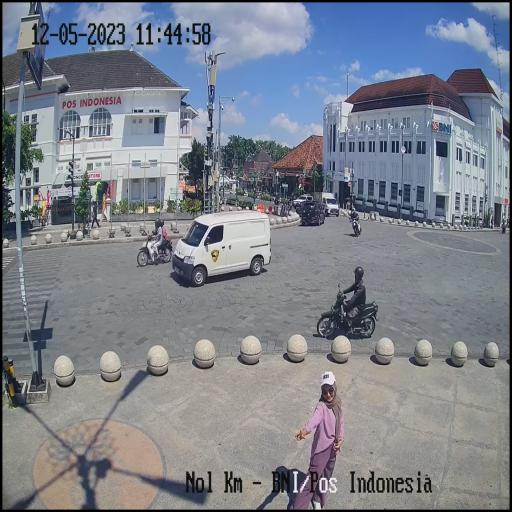mobil: (172, 210, 270, 287)
motor: (316, 284, 379, 341), (137, 227, 173, 267)
